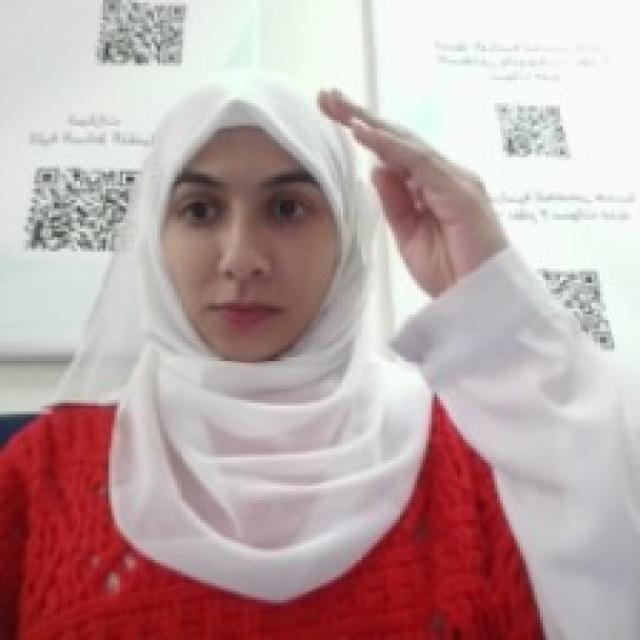Thanks: (308, 77, 503, 294)
